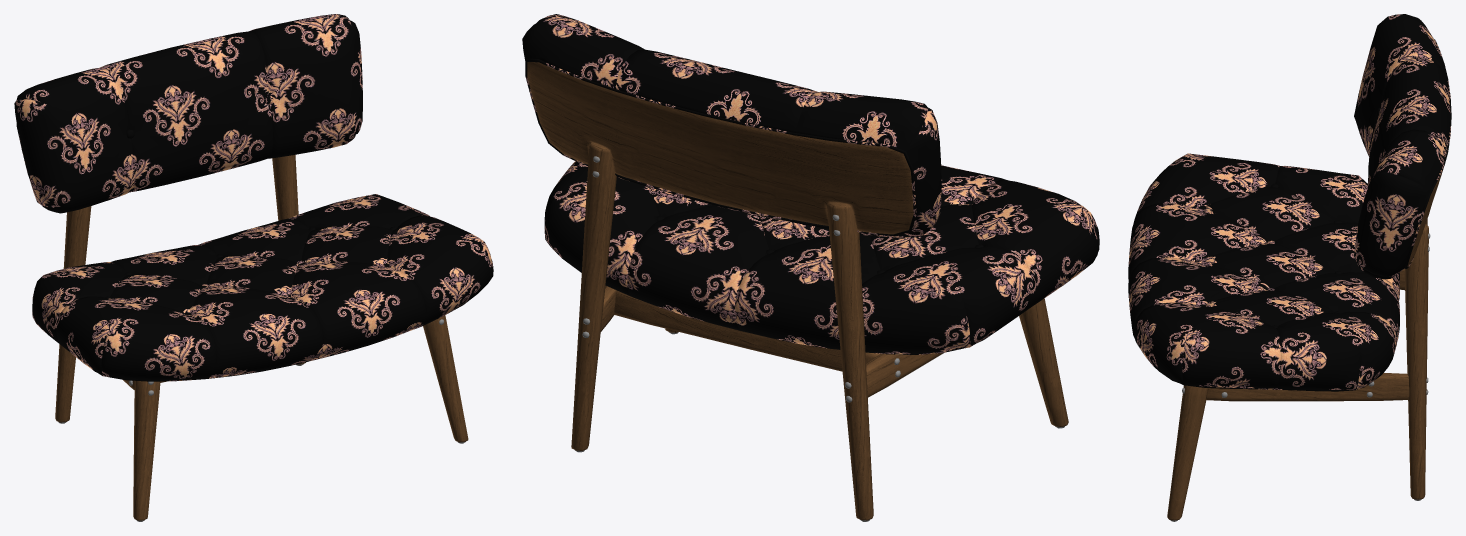
The model's file is ChairDamaskPurplegold.glb.
3 renders of one model, left to right at view 1: azimuth 30°, elevation 25°; view 2: azimuth 150°, elevation 25°; view 3: azimuth 270°, elevation 25°, orthographic. The views are drawn at different scales.
Visible parts, largest first — view 1: oval-tufted-chair_back-fabric, oval-tufted-chair_legs-frame; view 2: oval-tufted-chair_back-fabric, oval-tufted-chair_legs-frame; view 3: oval-tufted-chair_back-fabric, oval-tufted-chair_legs-frame.
Part boxes in pixels (x1,y1,x2,y2): oval-tufted-chair_back-fabric: (14,14,493,381); oval-tufted-chair_legs-frame: (55,154,468,520); oval-tufted-chair_back-fabric: (522,14,1099,354); oval-tufted-chair_legs-frame: (527,62,1068,520); oval-tufted-chair_back-fabric: (1128,14,1451,391); oval-tufted-chair_legs-frame: (1167,169,1443,520).
Size of the model in its own units: 0.8286 by 0.6873 by 0.5719.
4 materials, 3 textured.
